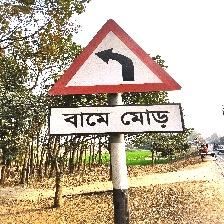Left-Turn: (46, 18, 187, 137)
